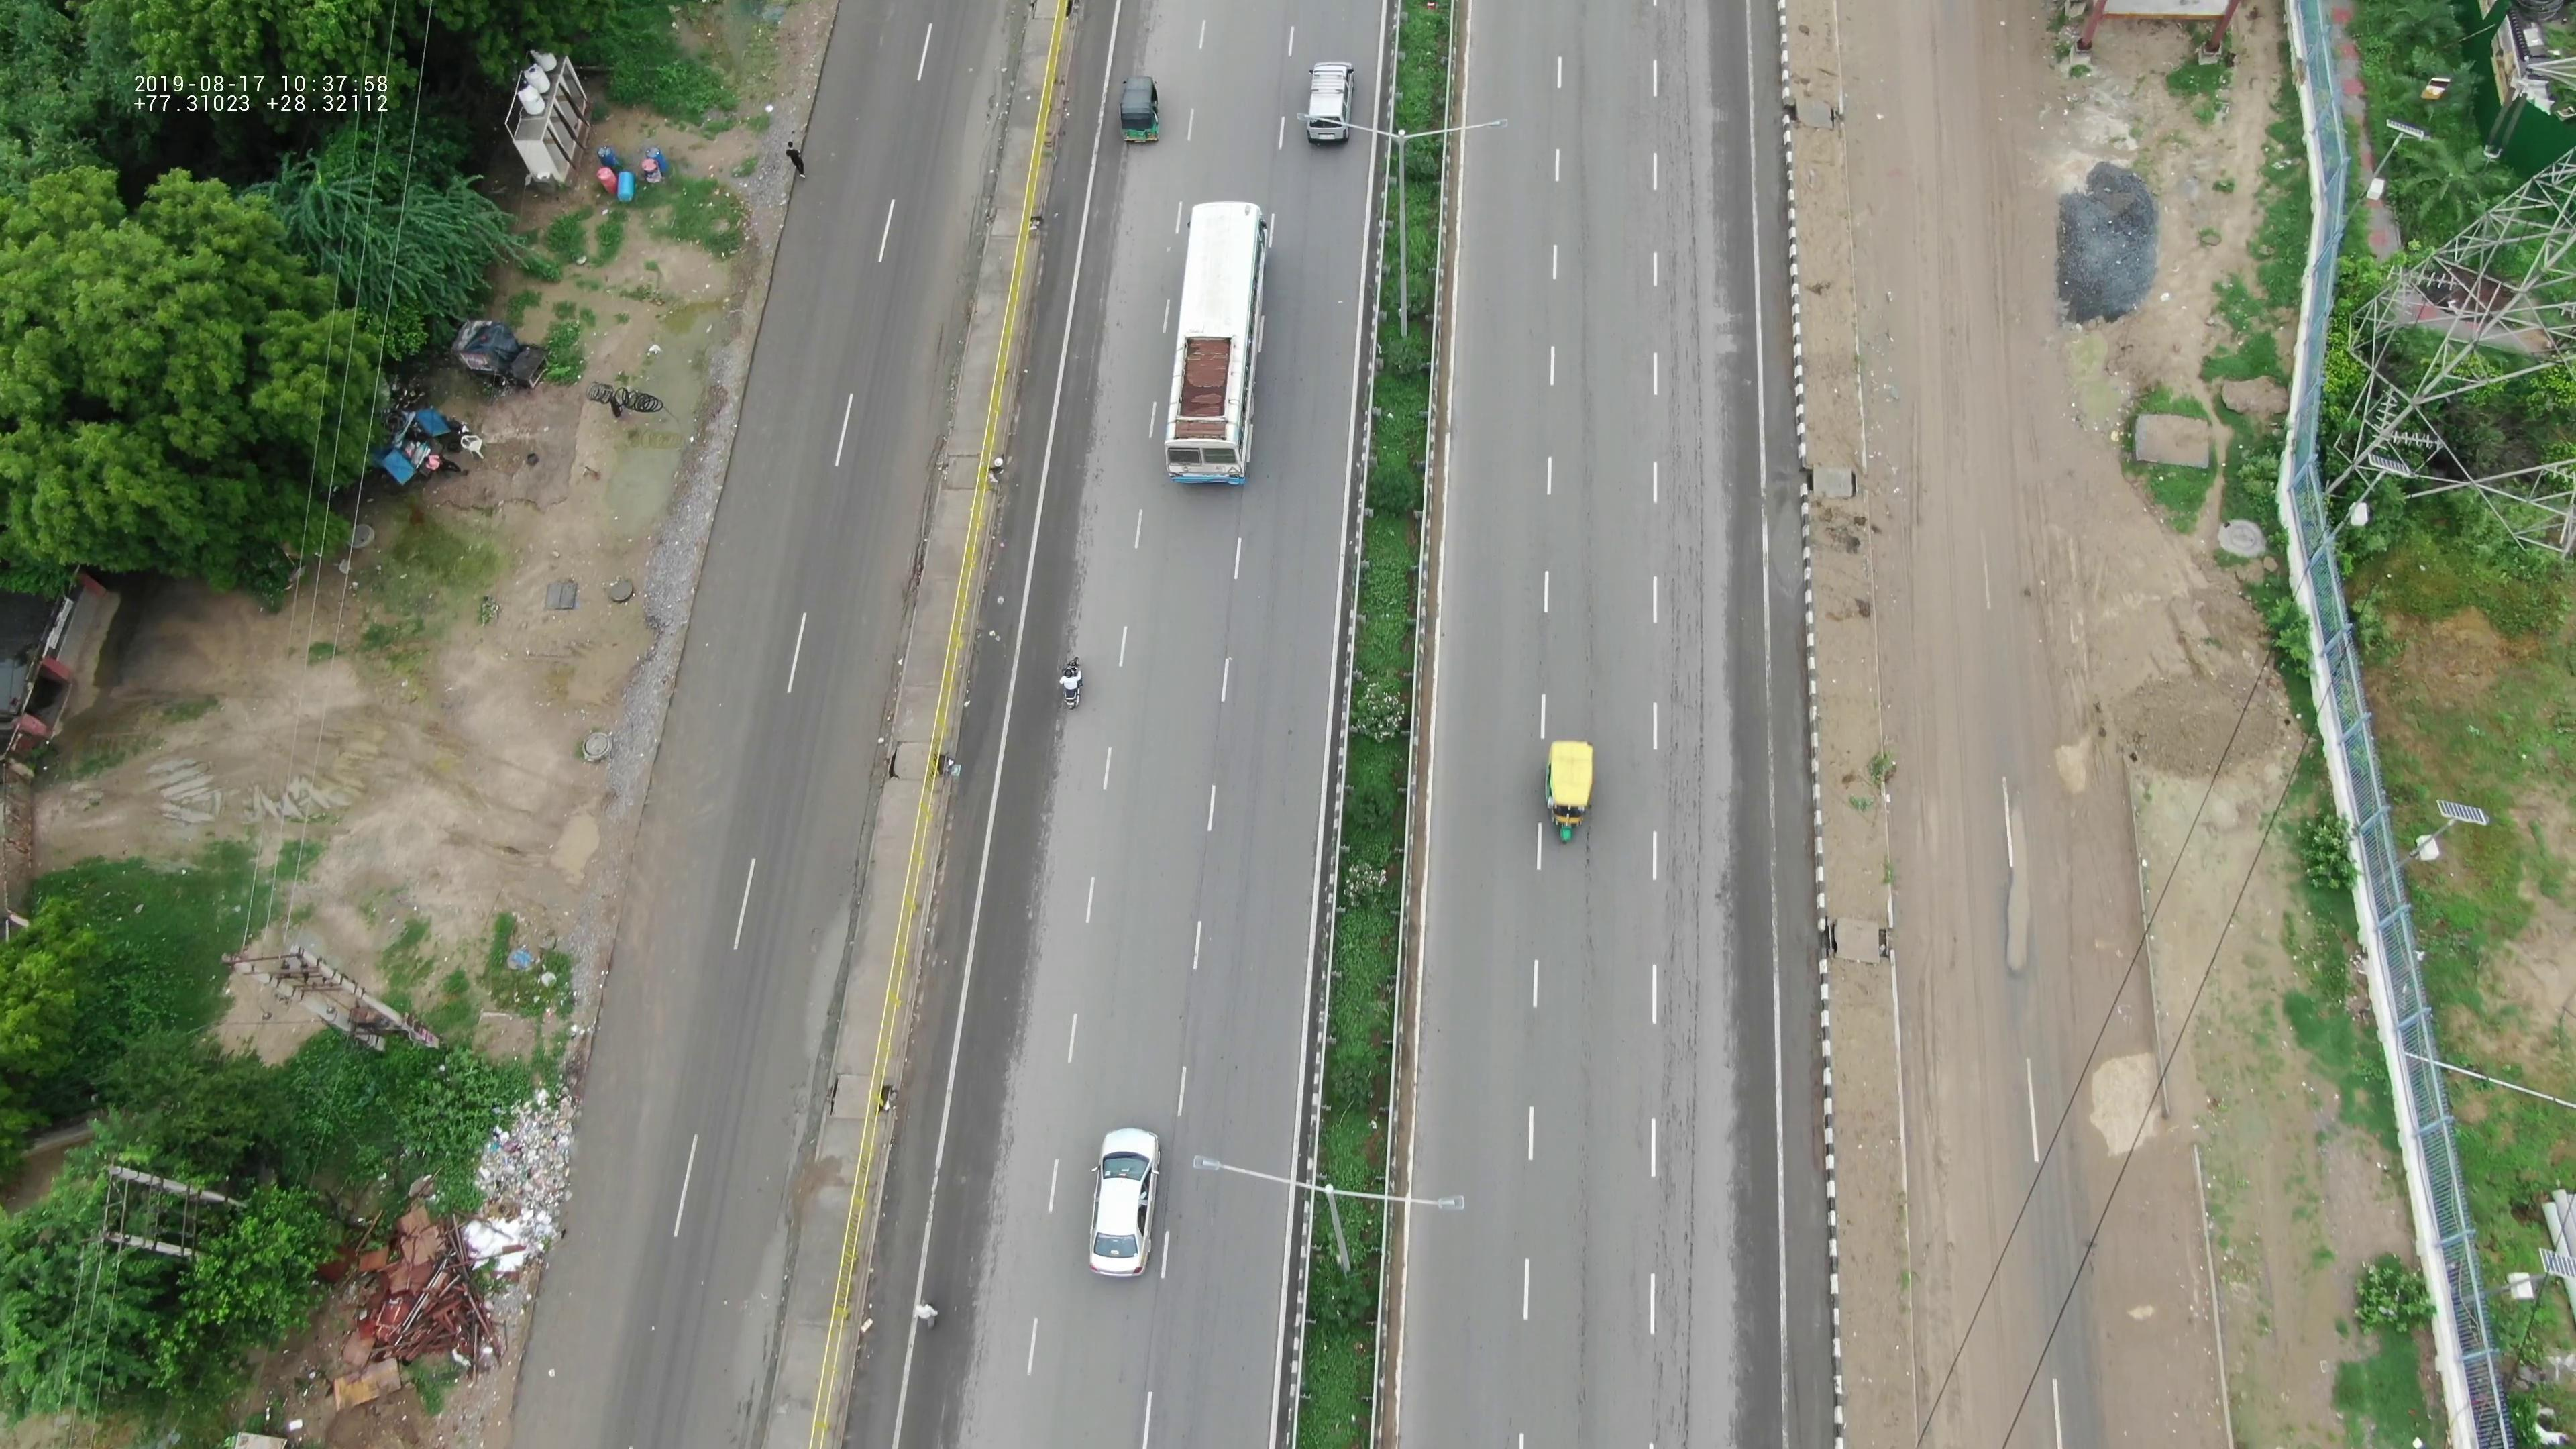Muddy_road: (1921, 1169, 2033, 1428), (1868, 71, 1951, 377), (1904, 867, 1996, 1143), (1898, 395, 1966, 741)
Potholes: (1973, 777, 2059, 985)
Ravelling: (1635, 455, 1714, 791), (1651, 150, 1713, 432), (1629, 1196, 1702, 1430), (1658, 832, 1702, 1143)
Waterlogging: (787, 892, 853, 1169), (720, 1219, 793, 1419)
